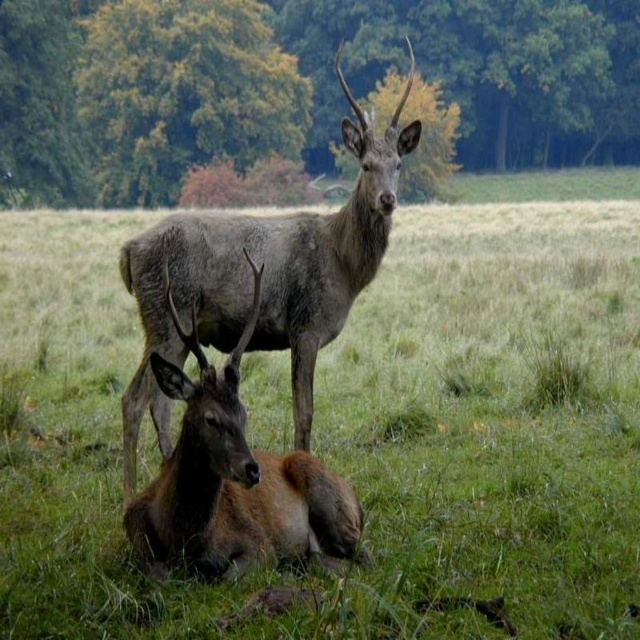Deer: (116, 32, 426, 508), (122, 248, 378, 578)
